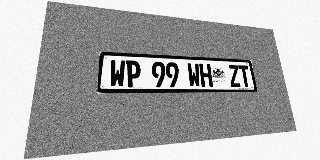9: (165, 62, 180, 87), (152, 61, 166, 87)
H: (199, 63, 213, 87)
P: (126, 60, 141, 87)
T: (238, 65, 251, 87)
W: (109, 59, 125, 87), (187, 63, 201, 87)
Z: (228, 65, 241, 87)
